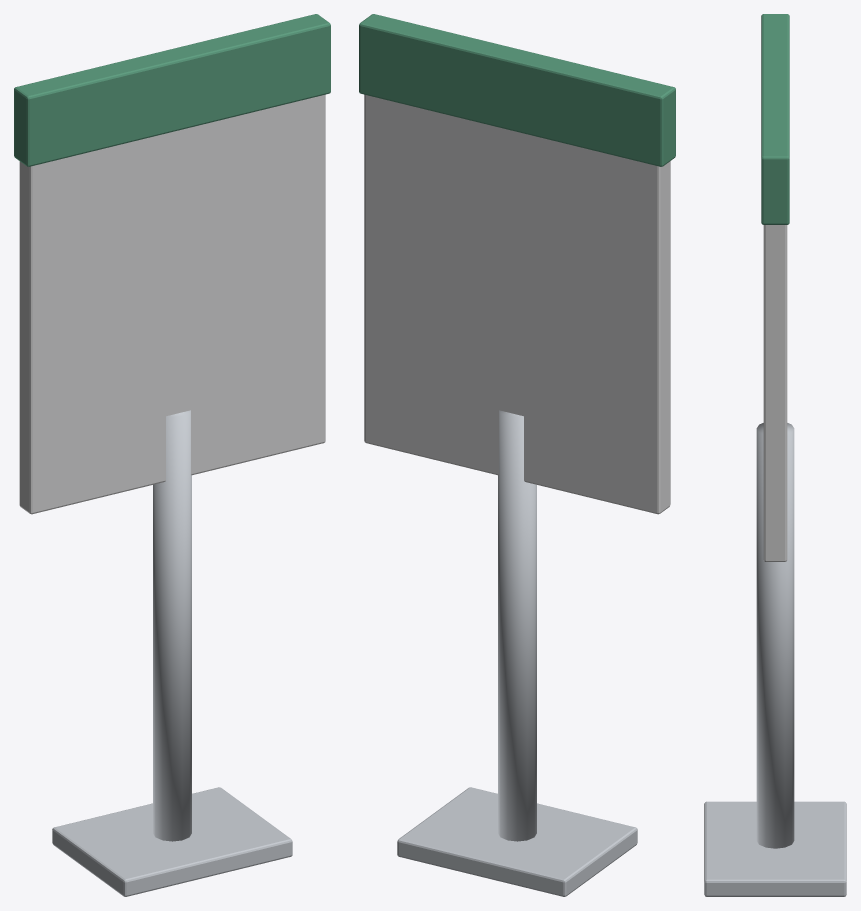
File: timetable_stand.glb
3 renders of one model, left to right at view 1: azimuth 30°, elevation 25°; view 2: azimuth 150°, elevation 25°; view 3: azimuth 270°, elevation 25°, orthographic. The views are drawn at different scales.
Visible parts, largest first — view 1: tt_panel, tt_header, tt_post, tt_base; view 2: tt_panel, tt_header, tt_post, tt_base; view 3: tt_post, tt_base, tt_panel, tt_header.
Part boxes in pixels (x1=…): tt_panel: x1=19, y1=94, x2=325, y2=514; tt_header: x1=14, y1=14, x2=330, y2=166; tt_post: x1=153, y1=410, x2=191, y2=841; tt_base: x1=52, y1=787, x2=292, y2=896; tt_panel: x1=364, y1=94, x2=670, y2=514; tt_header: x1=359, y1=14, x2=675, y2=166; tt_post: x1=498, y1=410, x2=536, y2=841; tt_base: x1=397, y1=787, x2=637, y2=896; tt_post: x1=756, y1=423, x2=794, y2=848; tt_base: x1=704, y1=801, x2=846, y2=896; tt_panel: x1=763, y1=225, x2=787, y2=561; tt_header: x1=761, y1=14, x2=789, y2=224.
Size of the model in its own units: 0.72 by 1.8 by 0.3.
